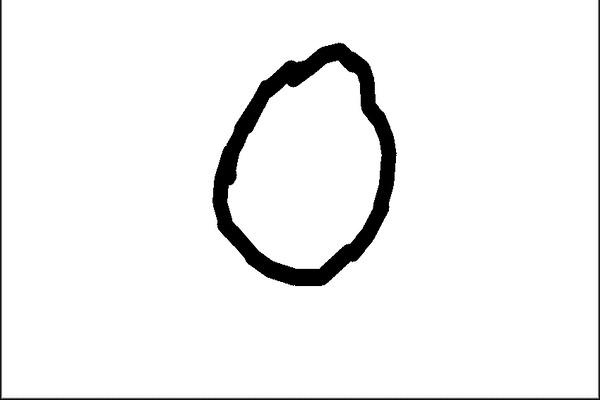O: (190, 22, 437, 293)
